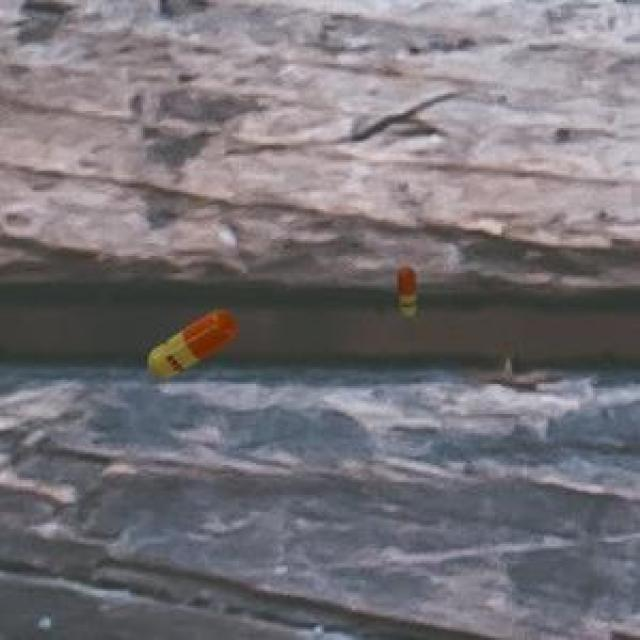Alaxan: (142, 300, 245, 386), (394, 257, 420, 322)
